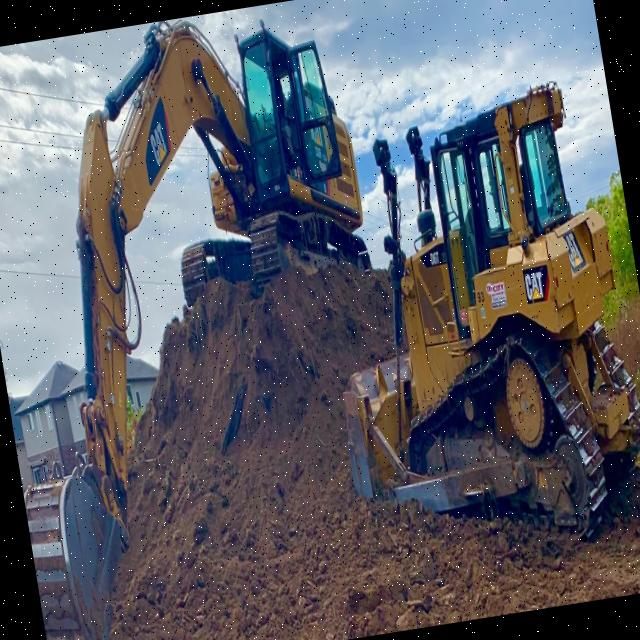Bulldozer: (277, 67, 640, 608)
Excavator: (0, 0, 434, 640)
